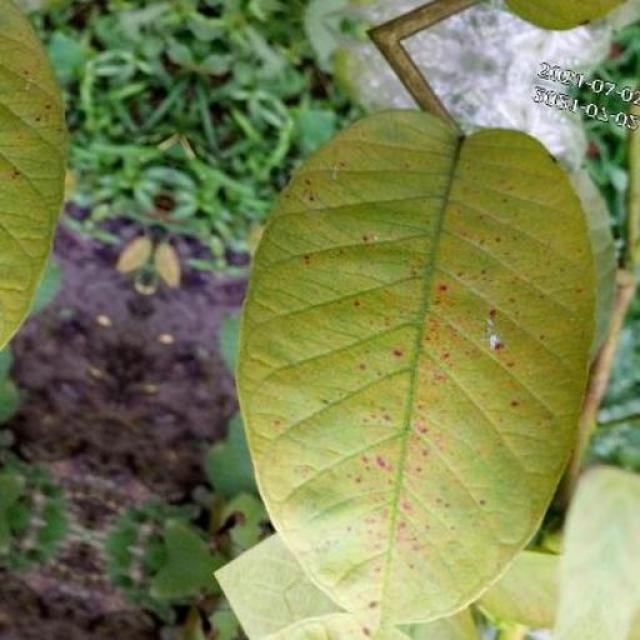Rust: (239, 111, 600, 640), (0, 0, 66, 346)
